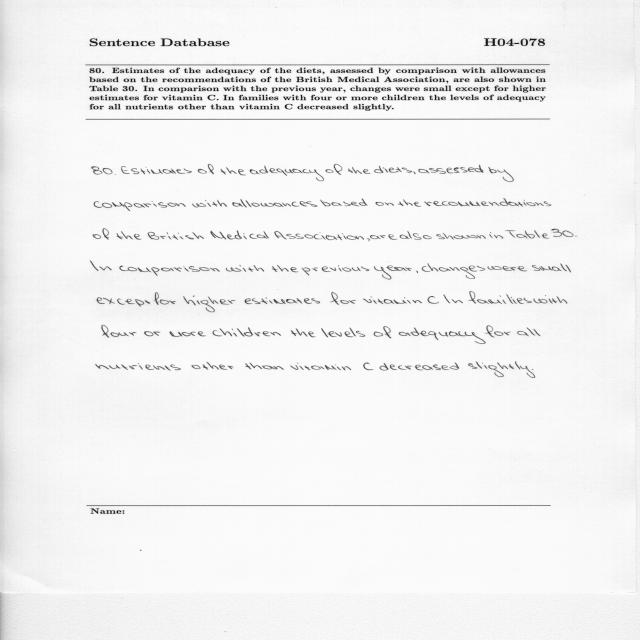word: (399, 327, 486, 344), (424, 198, 552, 207), (468, 361, 535, 378), (250, 166, 324, 181), (422, 263, 486, 279), (119, 266, 220, 276), (94, 201, 186, 211), (183, 296, 235, 312), (469, 291, 532, 304), (274, 231, 364, 240), (233, 199, 318, 208), (95, 363, 181, 371), (213, 327, 281, 337), (302, 266, 369, 276), (419, 164, 484, 174), (380, 363, 460, 371), (374, 266, 412, 280), (210, 231, 269, 240), (97, 297, 150, 307), (290, 363, 351, 371), (124, 167, 192, 174), (363, 296, 422, 304), (102, 325, 137, 338), (245, 298, 320, 304), (148, 232, 204, 240), (321, 328, 365, 338), (505, 230, 549, 239), (488, 167, 514, 182), (321, 199, 368, 207), (532, 264, 571, 273), (330, 292, 356, 305), (192, 362, 234, 370), (485, 326, 511, 338), (534, 295, 568, 304), (436, 233, 486, 239), (399, 231, 432, 240), (154, 292, 176, 305), (245, 363, 284, 370), (374, 166, 412, 173), (226, 265, 264, 272), (192, 200, 227, 207), (117, 231, 142, 240), (291, 329, 316, 338), (169, 331, 206, 337), (90, 261, 112, 271), (92, 166, 116, 175), (374, 326, 392, 338), (518, 328, 541, 337), (221, 168, 246, 176), (488, 266, 528, 271), (326, 164, 343, 175), (551, 229, 574, 237), (272, 265, 298, 272), (93, 229, 109, 240), (370, 234, 398, 240), (398, 200, 421, 207), (198, 164, 214, 174), (348, 167, 370, 174), (489, 232, 503, 239), (427, 296, 439, 304), (144, 331, 160, 336), (364, 363, 374, 371), (121, 166, 130, 174), (376, 202, 394, 206), (444, 295, 451, 304), (451, 299, 463, 303), (413, 171, 416, 174), (367, 239, 370, 242), (416, 271, 418, 273), (575, 236, 577, 237), (532, 369, 533, 370)
